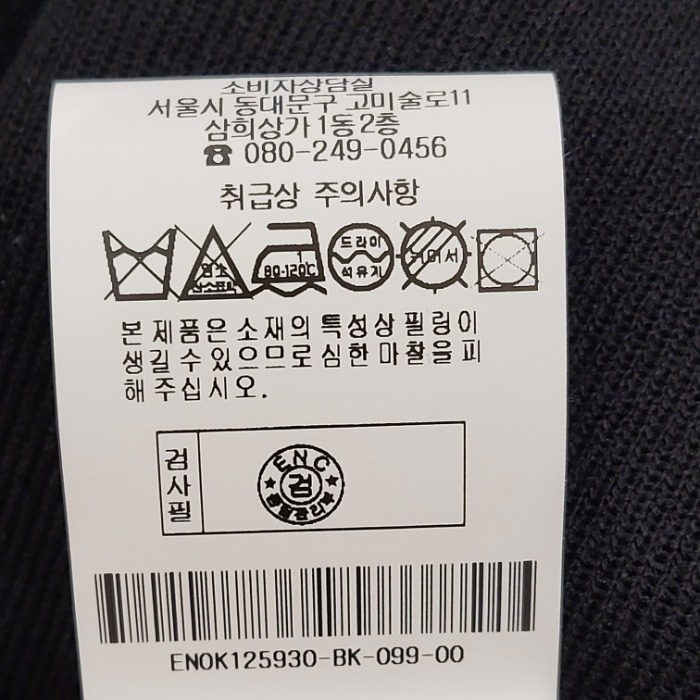KR_dry_clean_petroleum: (324, 216, 399, 293)
KR_flat_dry_in_shade: (396, 212, 473, 297)
KR_iron_low_temp_with_cloth: (249, 213, 333, 303)
KR_no_bleach: (177, 218, 250, 312)
KR_no_tumble_dry: (472, 221, 547, 299)
KR_no_wash: (95, 216, 179, 312)
